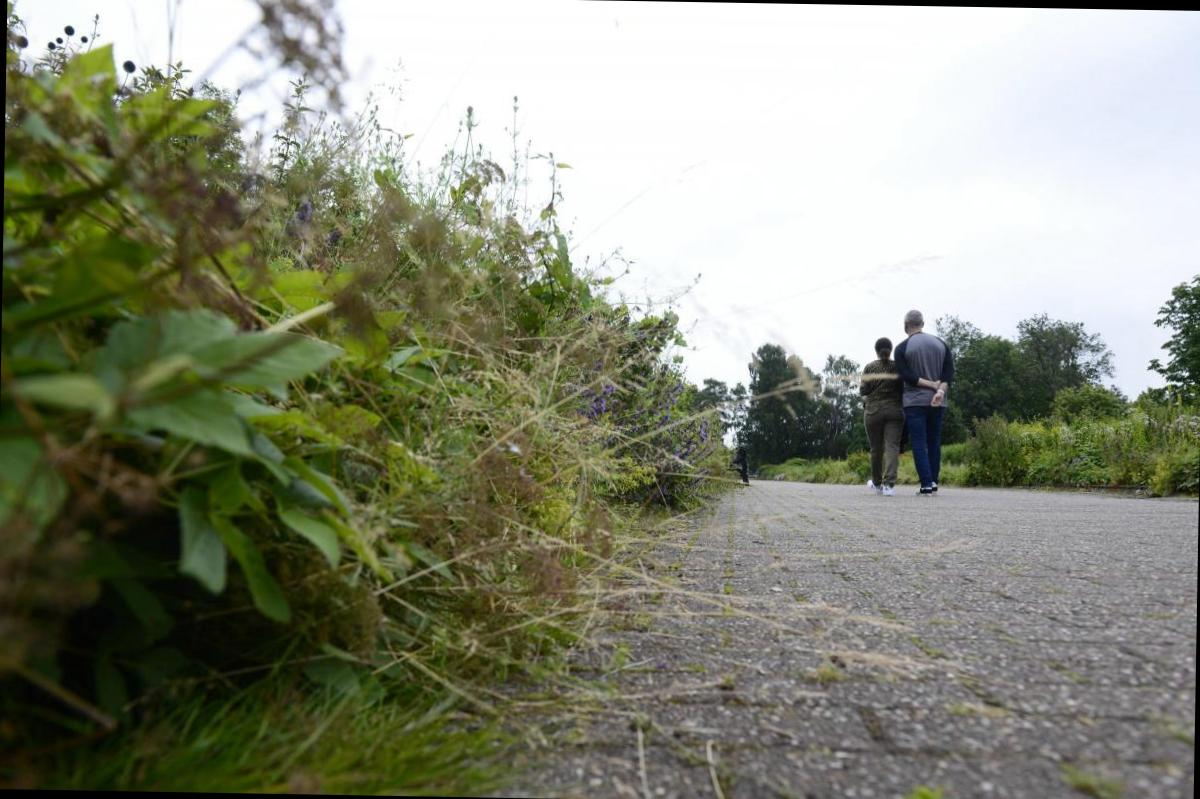overgrown grass: (0, 45, 720, 792), (942, 394, 1200, 496), (767, 450, 865, 483), (899, 449, 917, 484)
